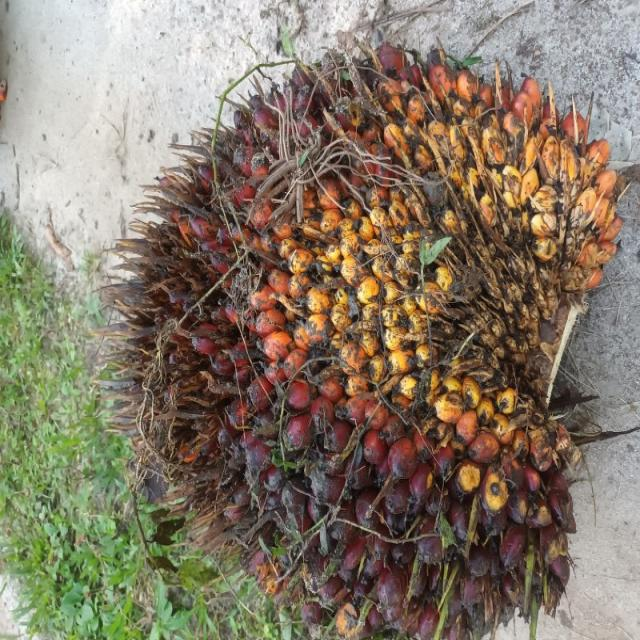fraksi 1: (0, 79, 448, 640)
